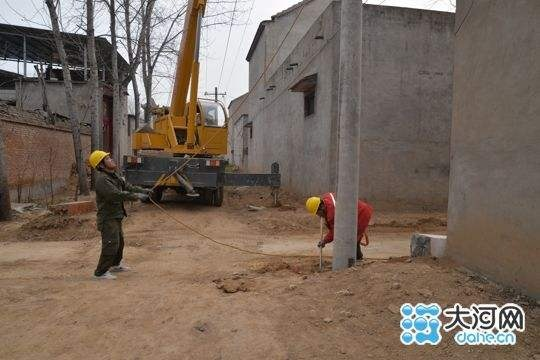yellow: (88, 146, 116, 176), (302, 193, 325, 217)
